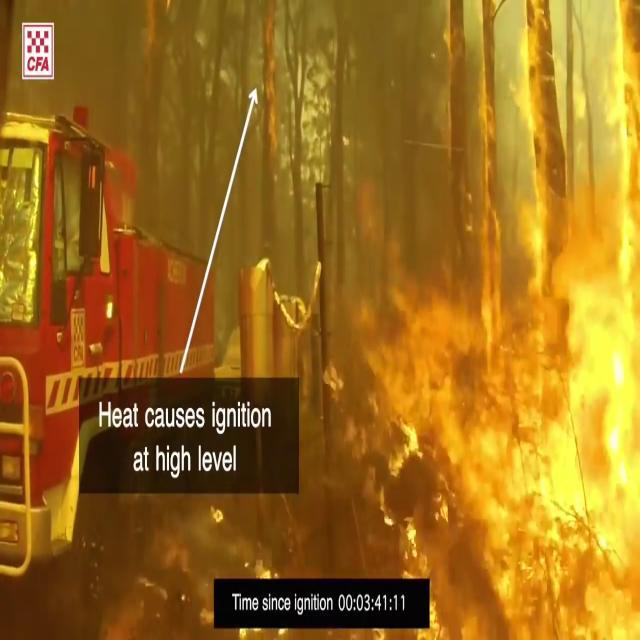Fire: (396, 1, 640, 632)
